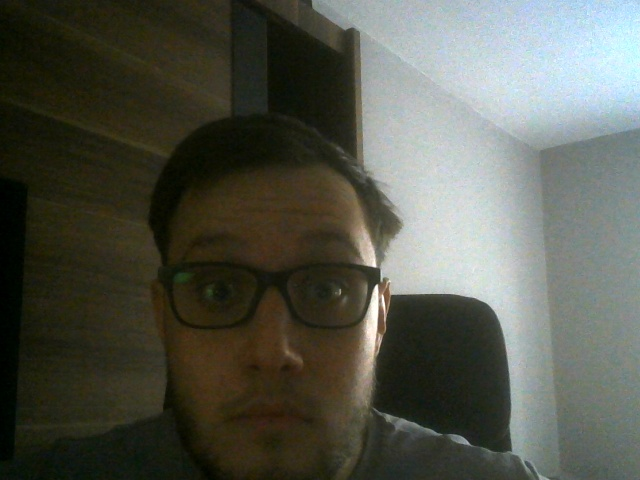surprised: (147, 113, 401, 475)
